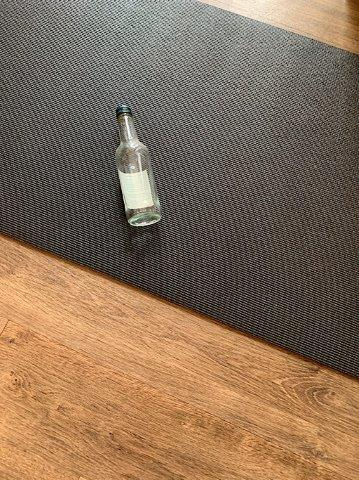botolkaca: (116, 106, 161, 224)
